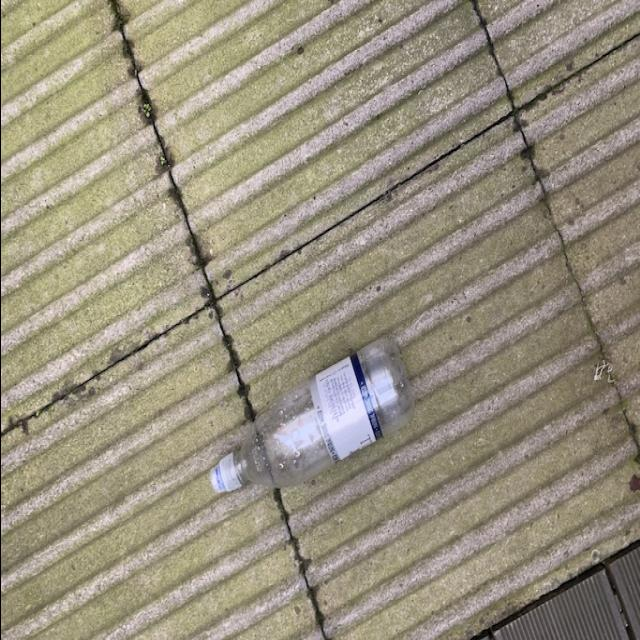PET: (204, 336, 416, 506)
